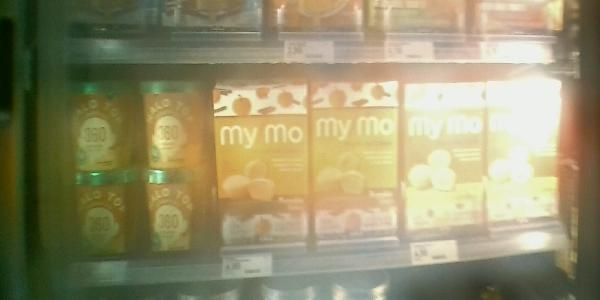icecream: (314, 85, 407, 259), (402, 81, 494, 236), (214, 81, 315, 202), (491, 81, 559, 234), (132, 77, 204, 180), (61, 178, 146, 255), (64, 81, 131, 176), (140, 179, 207, 268)
